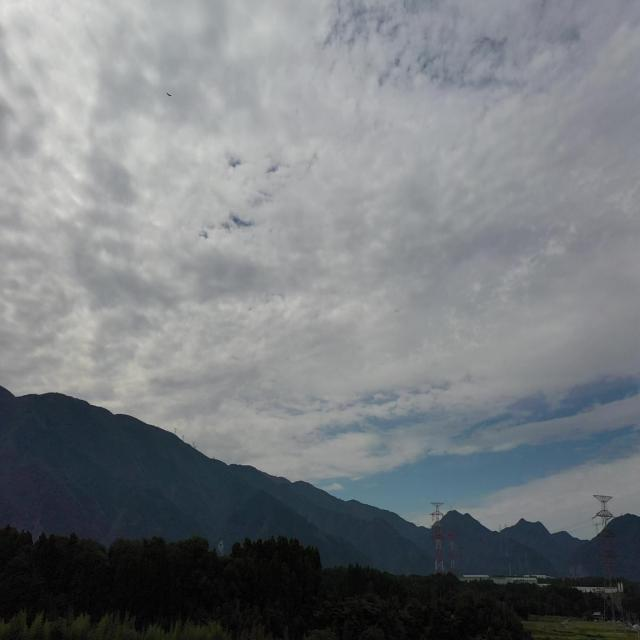Birds: (164, 90, 174, 101)
